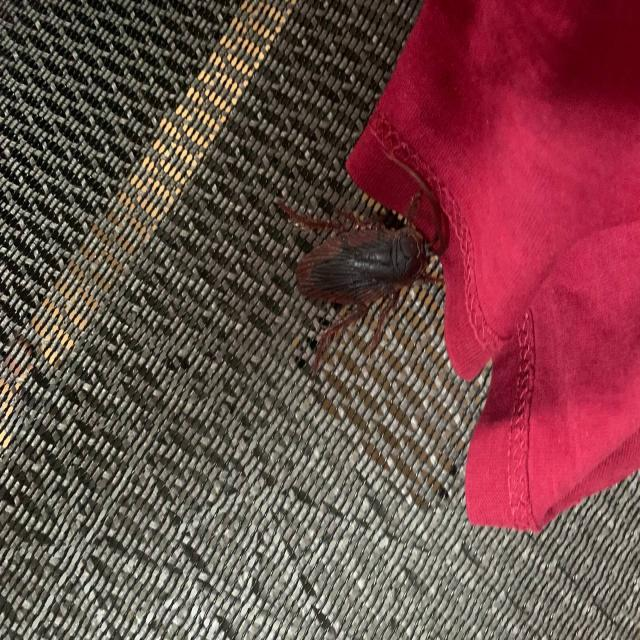Cockroach: (268, 169, 456, 387)
